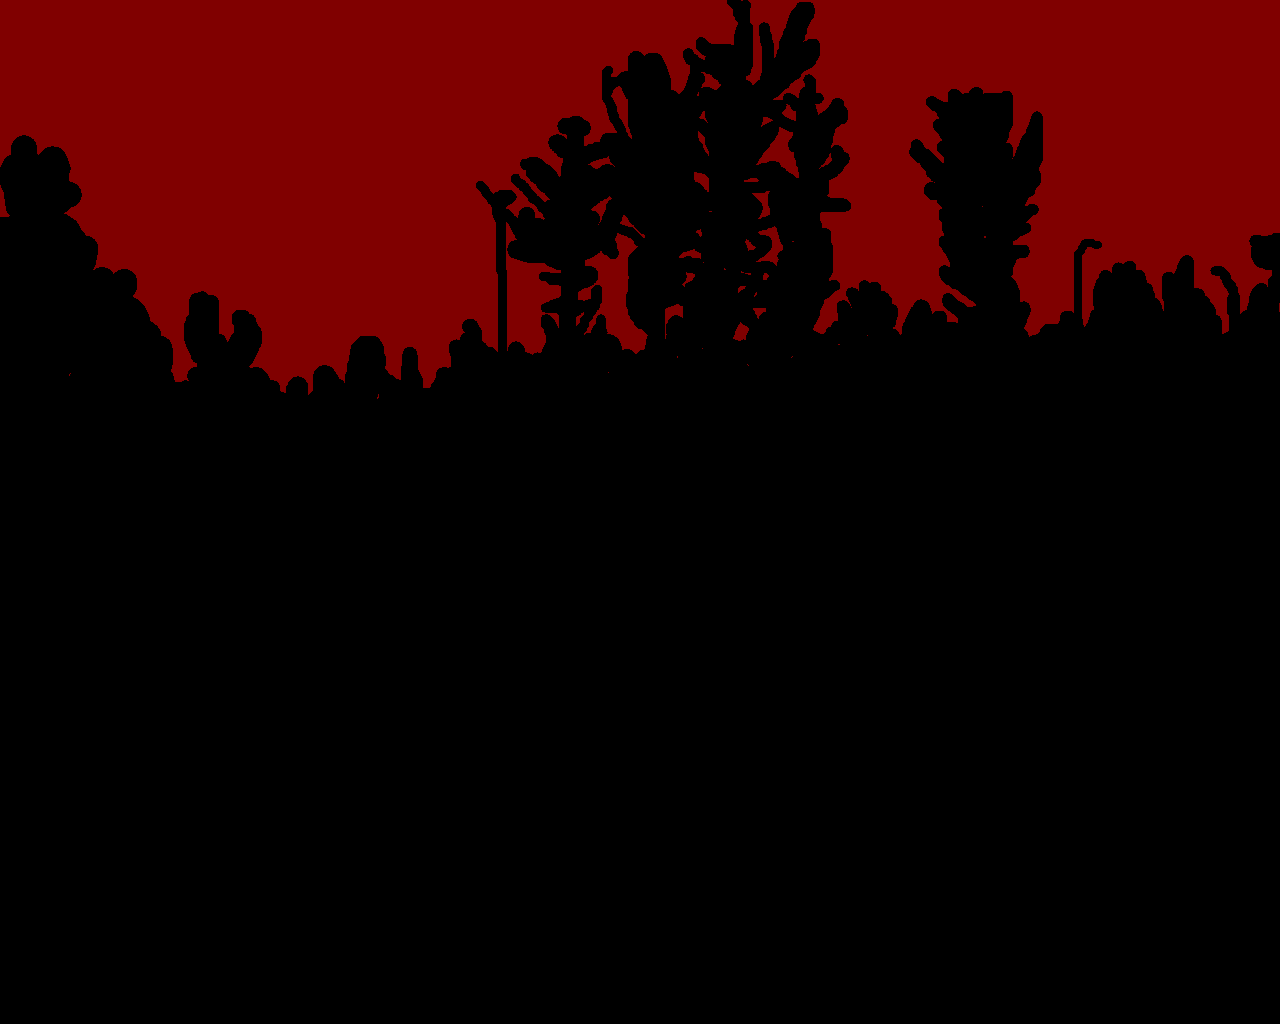Sky: (1, 1, 1279, 399)
